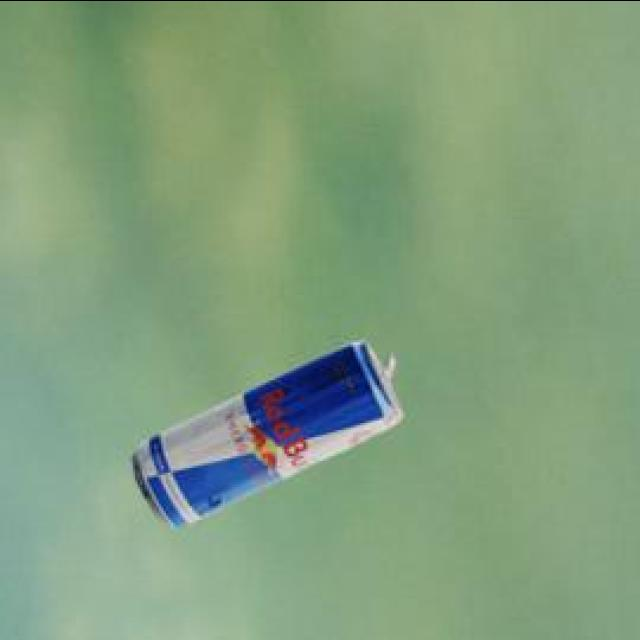logam: (136, 335, 407, 523)
